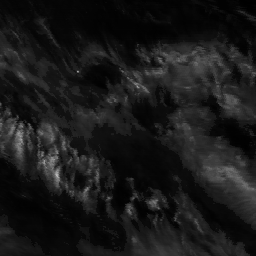Target: (75, 69, 81, 74)
